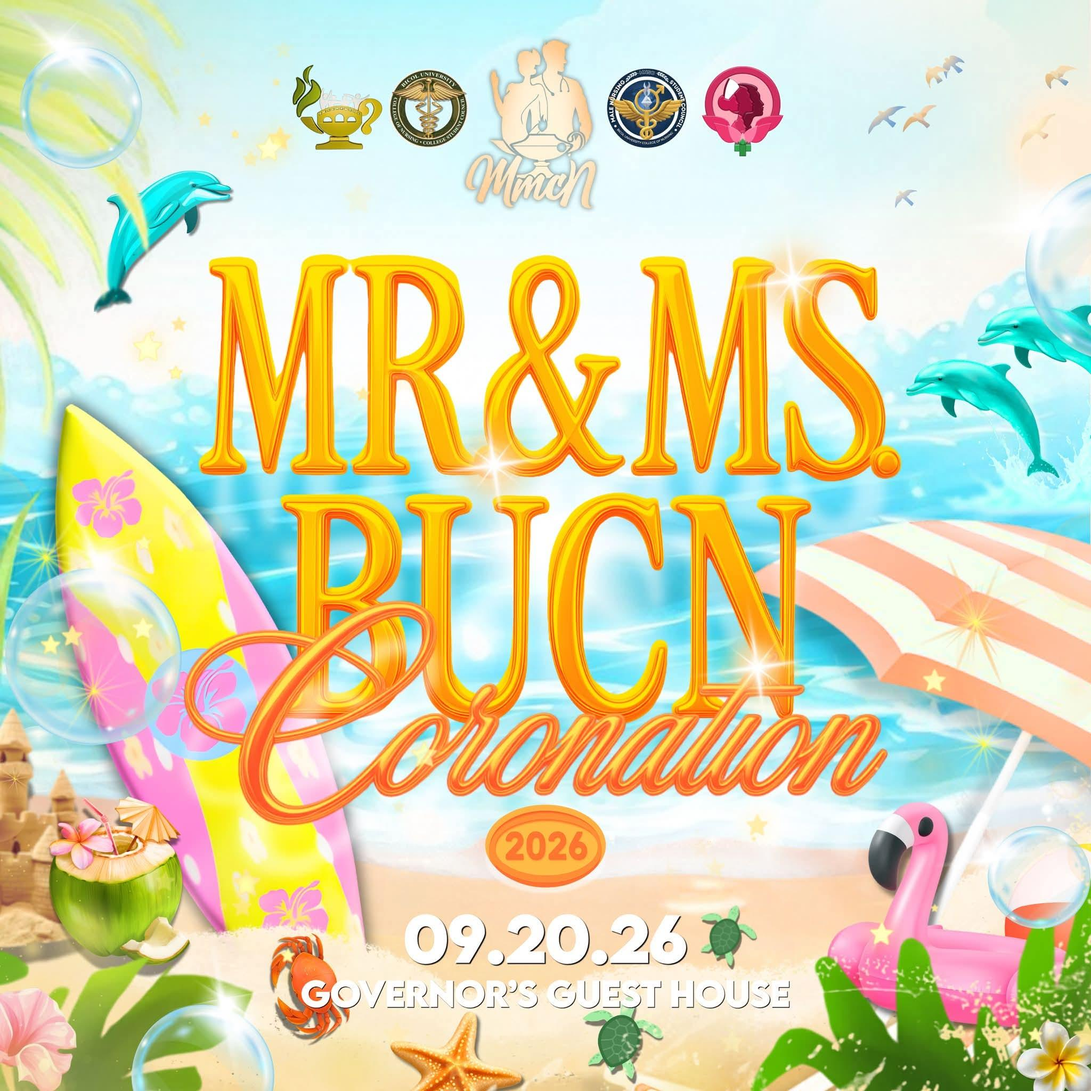embellishment: (716, 622, 803, 706), (743, 246, 833, 316), (462, 424, 528, 501)
logo: (458, 33, 607, 221)
text: (175, 242, 909, 835), (297, 974, 797, 1014), (396, 907, 693, 968), (287, 60, 387, 158), (697, 61, 789, 160), (602, 66, 690, 152), (389, 65, 471, 150), (501, 825, 595, 867)
underlay: (487, 804, 605, 888)
